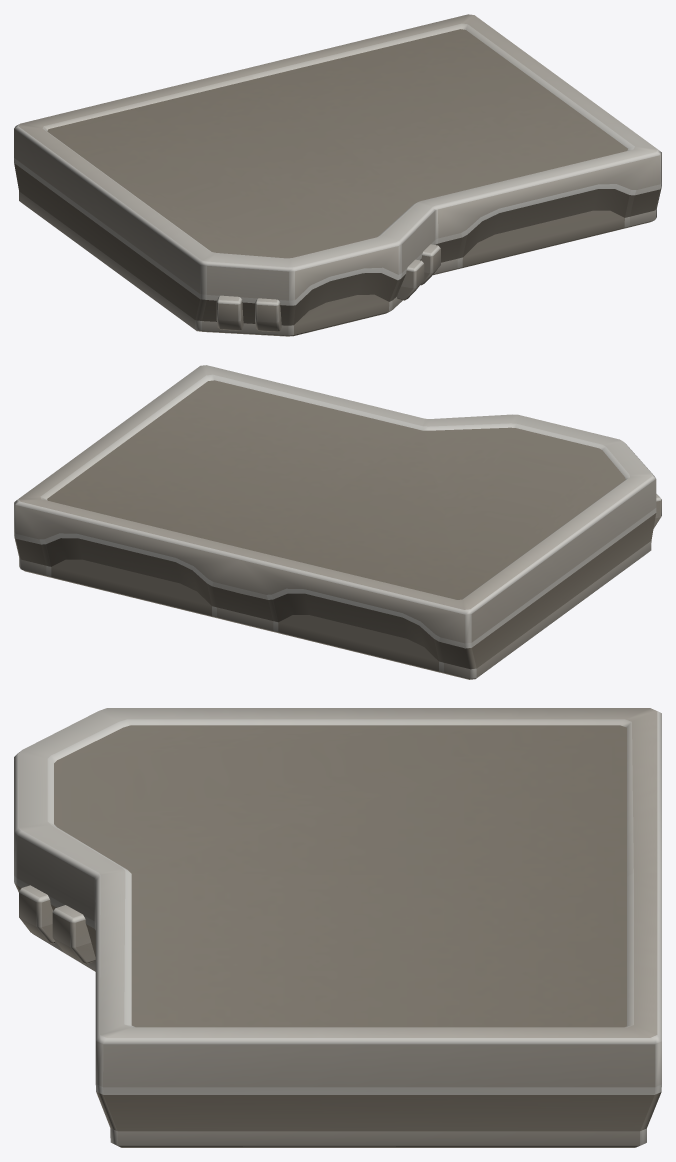
The model's file is appartment_type2_roof_type1_flat.fbx.
3 views of the same model, one above another, from view 1: azimuth 30°, elevation 25°; view 2: azimuth 150°, elevation 25°; view 3: azimuth 270°, elevation 25° (orthographic). The views are drawn at different scales.
Parts seen in each view (by area): view 1: appartment_type2_roof_type1_flat; view 2: appartment_type2_roof_type1_flat; view 3: appartment_type2_roof_type1_flat.
Part boxes in pixels (x1,y1,x2,y2): appartment_type2_roof_type1_flat: (14, 14, 661, 336); appartment_type2_roof_type1_flat: (14, 365, 661, 679); appartment_type2_roof_type1_flat: (14, 708, 661, 1147).
Bounding box in the file's own units: 1210 × 186 × 992.
